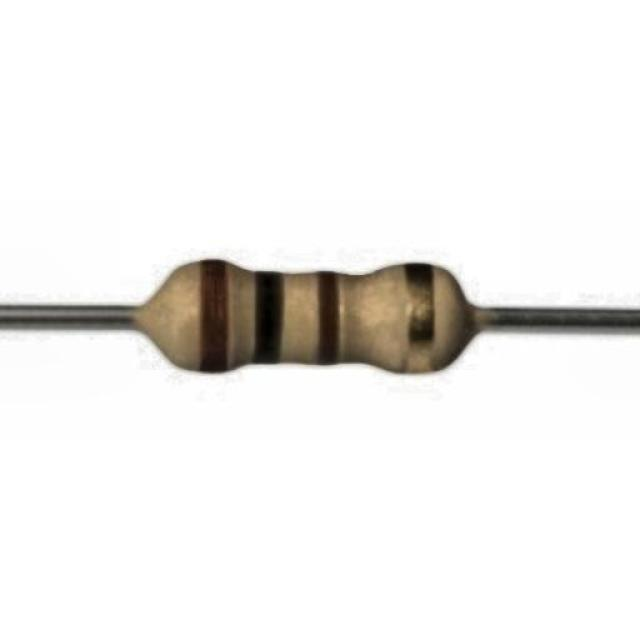Resistor: (34, 230, 580, 422)
